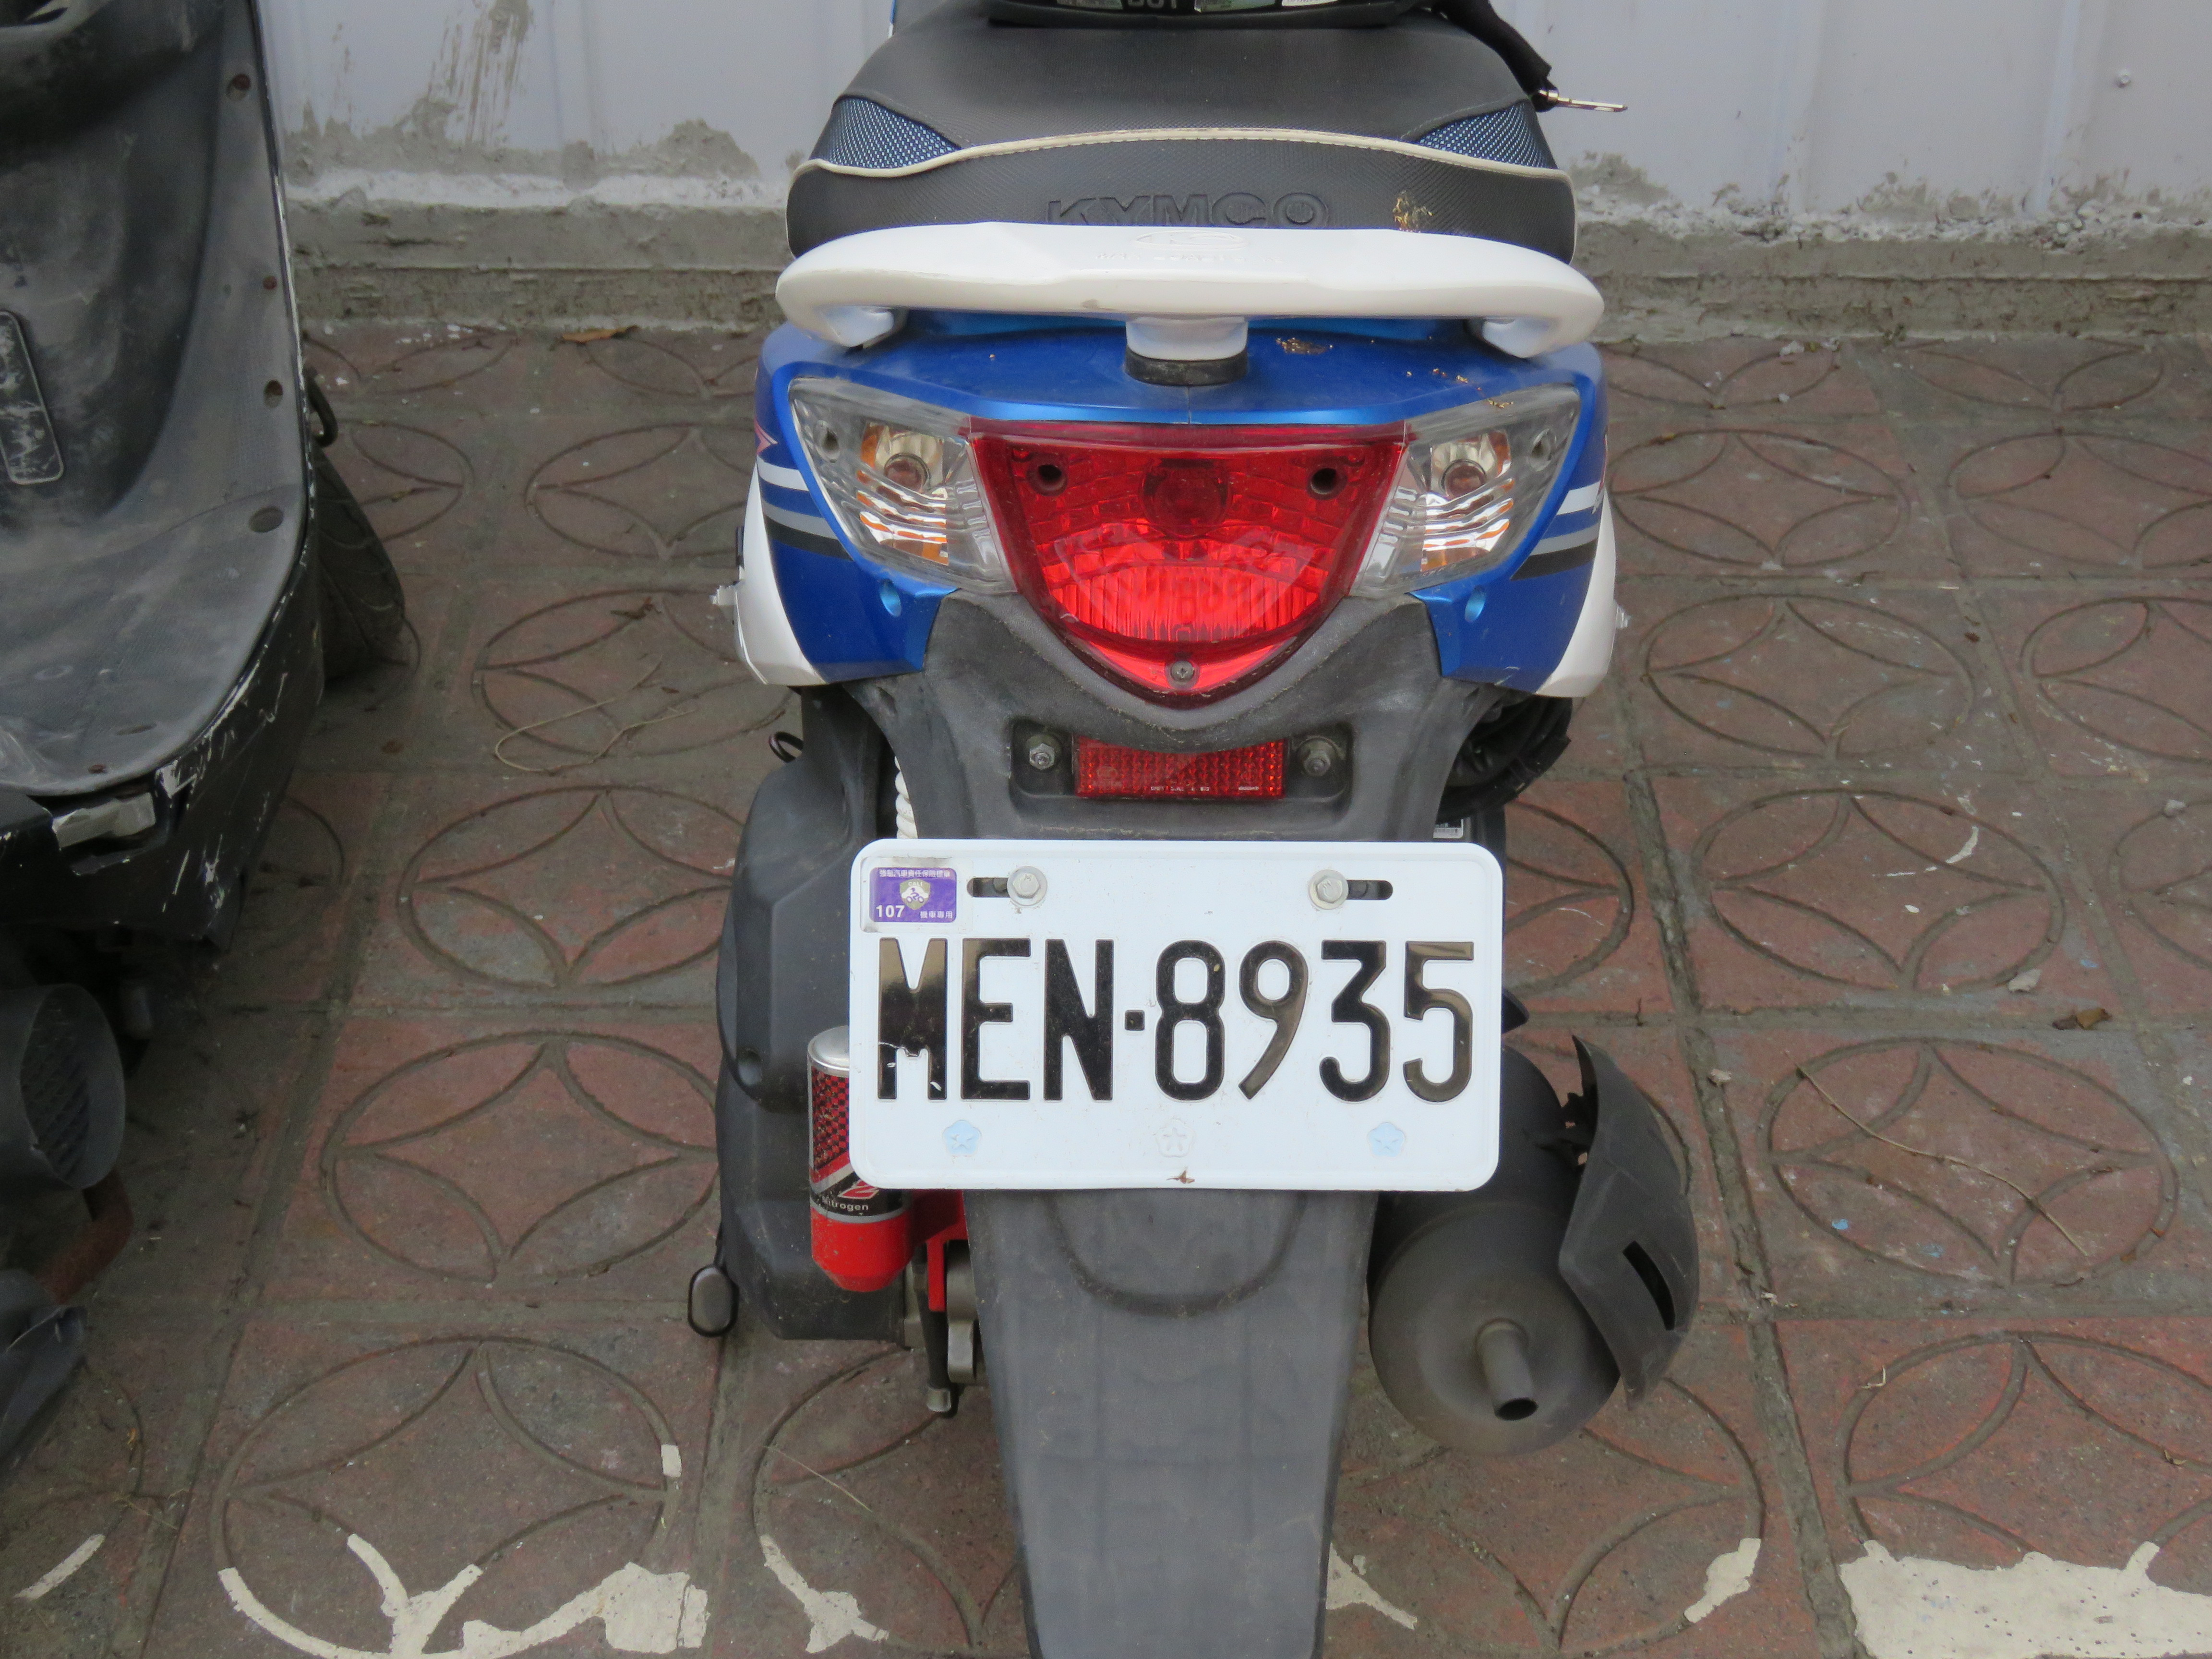car_card: (855, 847, 1503, 1195)
moto: (773, 195, 1616, 1635)
